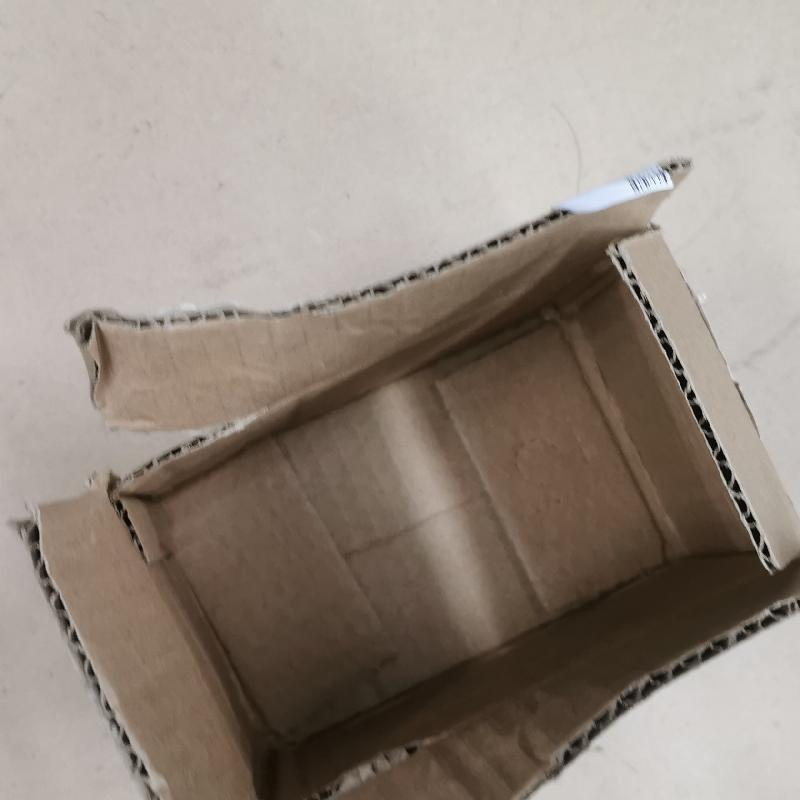boxes: (16, 159, 800, 799)
